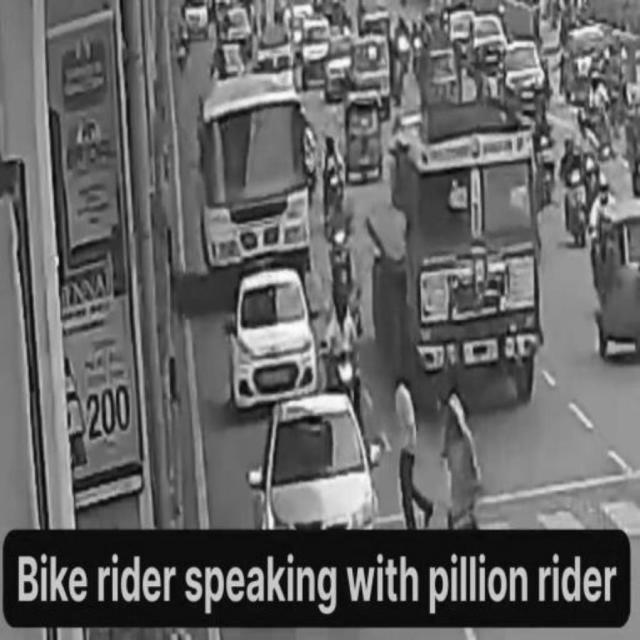person: (440, 377, 484, 529), (390, 379, 428, 533)
vehicle: (397, 121, 538, 401), (200, 94, 314, 280), (257, 400, 379, 551), (230, 268, 318, 402), (599, 208, 640, 368), (321, 288, 367, 422), (343, 90, 381, 186), (324, 205, 354, 317), (564, 139, 588, 253), (320, 134, 345, 235)
